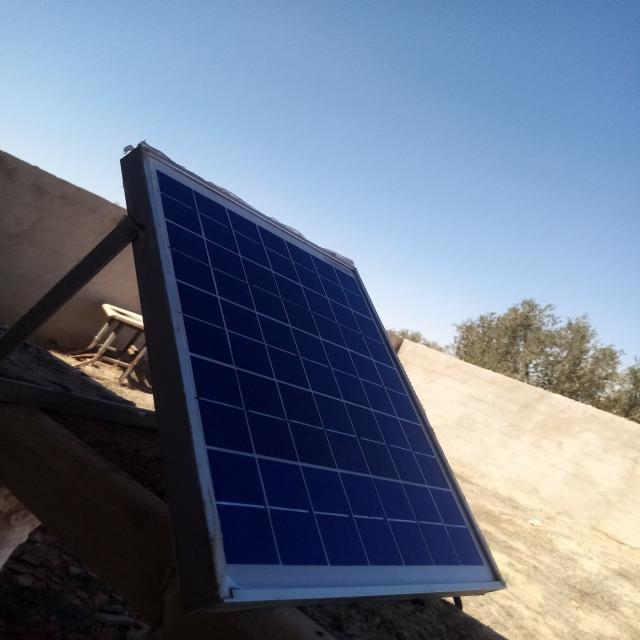no faulty: (144, 148, 504, 595)
